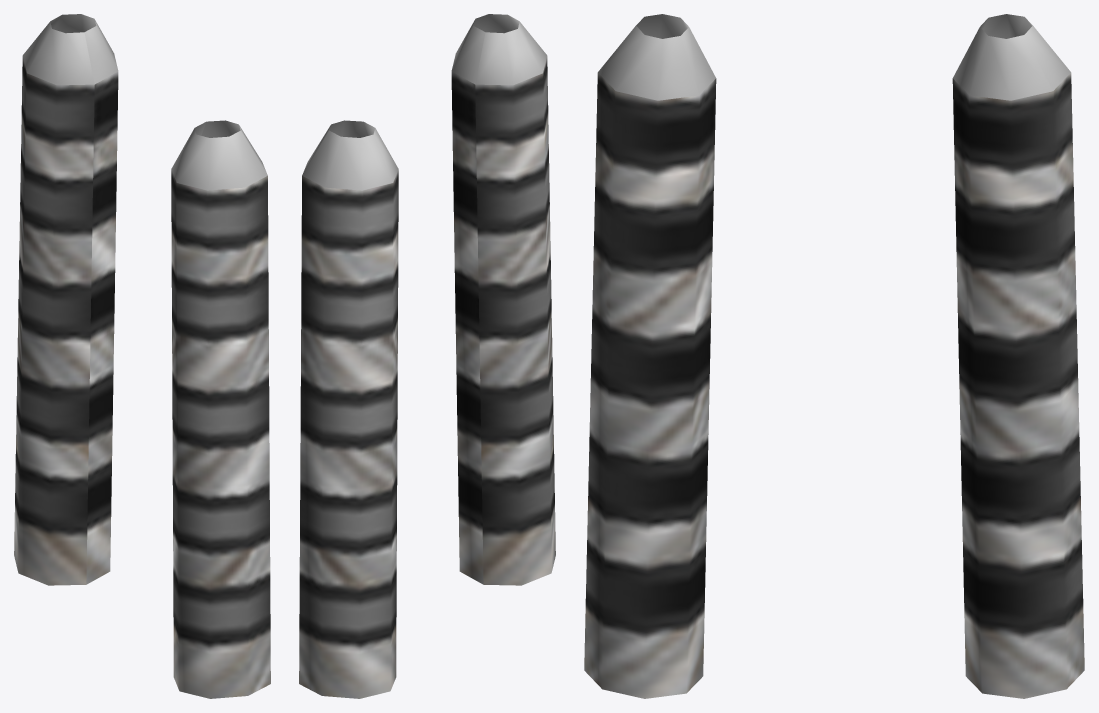
File: Moto_front_suspension.FBX
The picture shows the model from 3 angles, left to right: view 1: azimuth 30°, elevation 25°; view 2: azimuth 150°, elevation 25°; view 3: azimuth 270°, elevation 25°; orthographic projection. The views are drawn at different scales.
Visible parts, largest first — view 1: suspensie; view 2: suspensie; view 3: suspensie.
Boxes of the visible parts, bbox=[...] form: suspensie: bbox=[14, 14, 270, 698]; suspensie: bbox=[299, 14, 555, 698]; suspensie: bbox=[584, 14, 1084, 698].
Size of the model in its own units: 4.85 by 28.43 by 19.75.
1 material, 1 textured.
